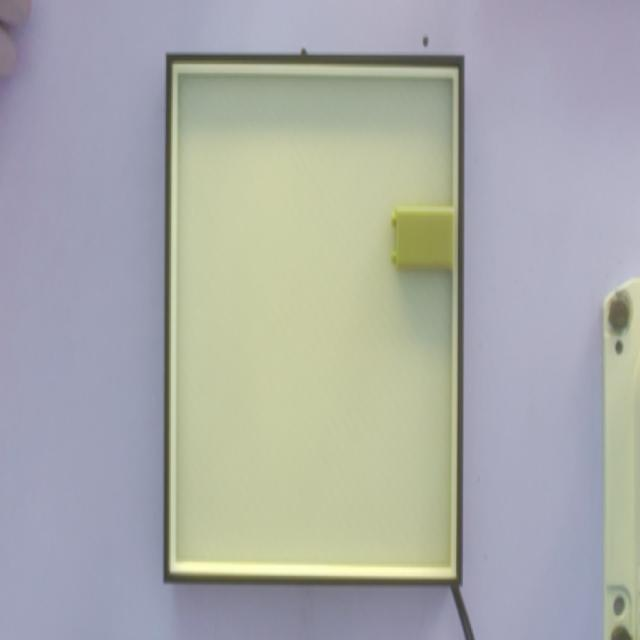bateria: (391, 207, 453, 273)
mesa: (163, 54, 464, 587)
